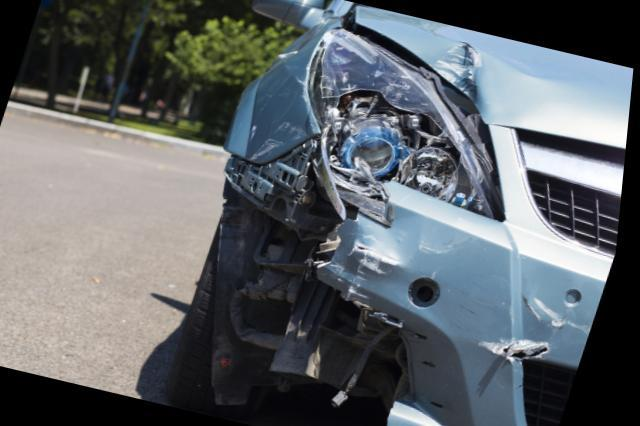crack: (501, 344, 558, 361)
dent: (432, 42, 482, 104)
lamp broken: (311, 33, 502, 223)
no part: (220, 140, 415, 426)
scratch: (332, 233, 410, 301), (528, 297, 598, 335), (250, 120, 311, 161)
